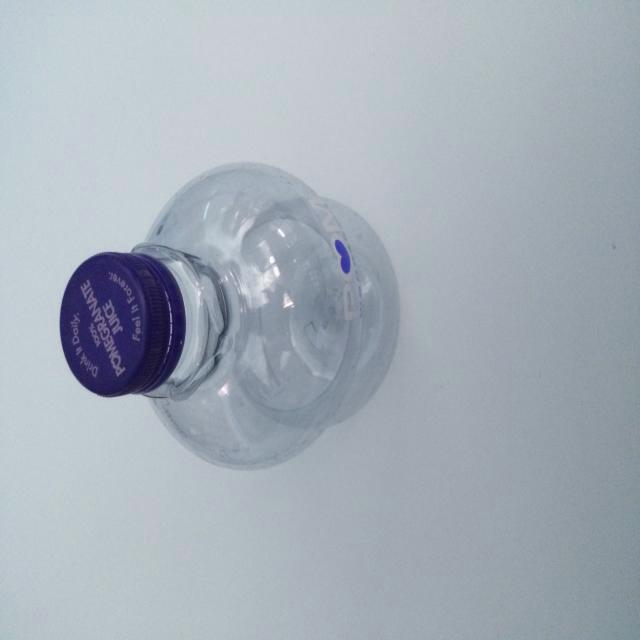plastic: (21, 142, 448, 512)
